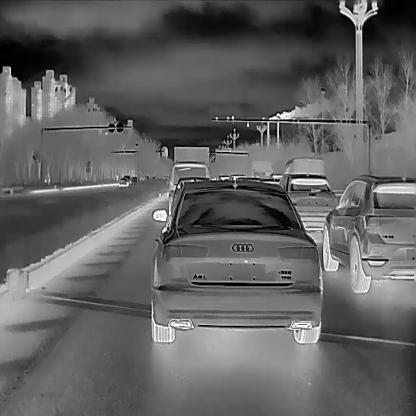car: (151, 181, 323, 343), (322, 173, 415, 293), (276, 174, 340, 232), (168, 161, 209, 198), (283, 158, 324, 182), (248, 160, 272, 190), (119, 177, 127, 187)
